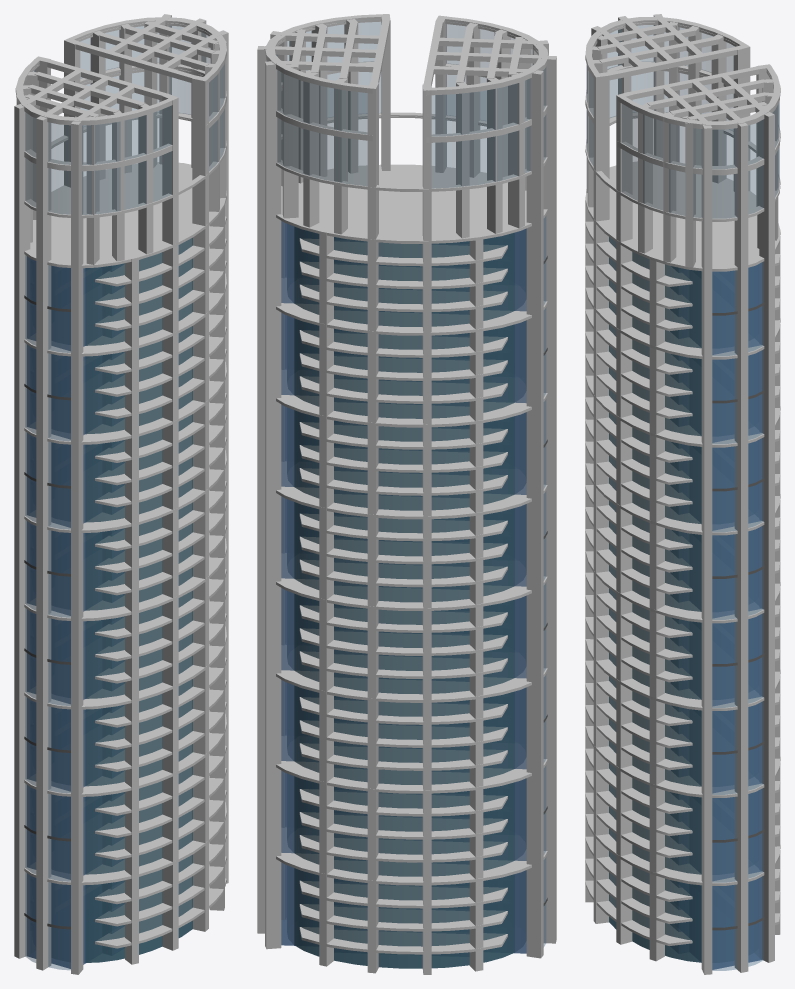
Rendered from building1.dae.
3 views of the same model, side by side, from view 1: azimuth 30°, elevation 25°; view 2: azimuth 150°, elevation 25°; view 3: azimuth 270°, elevation 25° (orthographic). The views are drawn at different scales.
Visible parts, largest first — view 1: pCylinder2, pCube47, pCylinder81, pCube29, pCube37, pCube38, pCube31, pCube30, pCylinder80, pCube36, pCylinder82, pCylinder38 (+60 smaller); view 2: pCylinder78, pCube47, pCylinder79, pCube31, pCube46, pCube29, pCube42, pCylinder38, pCube43, pCube40, pCube41, pCube44 (+58 smaller); view 3: pCube47, pCylinder2, pCylinder81, pCube44, pCube38, pCube46, pCylinder82, pCube37, pCube39, pCube45, pCylinder80, pCylinder38 (+60 smaller).
Boxes of the visible parts, x1=… form: pCylinder2: x1=84, y1=237, x2=192, y2=962; pCube47: x1=27, y1=256, x2=124, y2=968; pCylinder81: x1=48, y1=265, x2=70, y2=969; pCube29: x1=36, y1=161, x2=51, y2=970; pCube37: x1=162, y1=94, x2=178, y2=950; pCube38: x1=192, y1=76, x2=208, y2=931; pCube31: x1=14, y1=151, x2=30, y2=958; pCube30: x1=71, y1=165, x2=83, y2=974; pCylinder80: x1=48, y1=32, x2=224, y2=214; pCube36: x1=125, y1=257, x2=138, y2=964; pCylinder82: x1=25, y1=255, x2=35, y2=962; pCylinder38: x1=24, y1=162, x2=226, y2=268; pCylinder78: x1=287, y1=224, x2=525, y2=968; pCube47: x1=281, y1=221, x2=526, y2=956; pCylinder79: x1=267, y1=61, x2=545, y2=188; pCube31: x1=526, y1=117, x2=543, y2=958; pCube46: x1=265, y1=109, x2=281, y2=949; pCube29: x1=543, y1=102, x2=556, y2=943; pCube42: x1=367, y1=82, x2=378, y2=973; pCylinder38: x1=276, y1=164, x2=547, y2=243; pCube43: x1=319, y1=233, x2=333, y2=966; pCube40: x1=469, y1=239, x2=483, y2=971; pCube41: x1=422, y1=84, x2=431, y2=974; pCube44: x1=257, y1=95, x2=264, y2=933; pCube47: x1=670, y1=262, x2=761, y2=969; pCylinder2: x1=609, y1=237, x2=701, y2=962; pCylinder81: x1=712, y1=270, x2=736, y2=970; pCube44: x1=734, y1=167, x2=748, y2=972; pCube38: x1=616, y1=92, x2=632, y2=944; pCube46: x1=759, y1=157, x2=774, y2=962; pCylinder82: x1=748, y1=262, x2=763, y2=966; pCube37: x1=593, y1=72, x2=609, y2=923; pCube39: x1=649, y1=257, x2=664, y2=961; pCube45: x1=701, y1=169, x2=712, y2=974; pCylinder80: x1=586, y1=29, x2=736, y2=218; pCylinder38: x1=585, y1=161, x2=780, y2=271.
Bounding box in the file's own units: 6.38 × 21.96 × 4.59.
